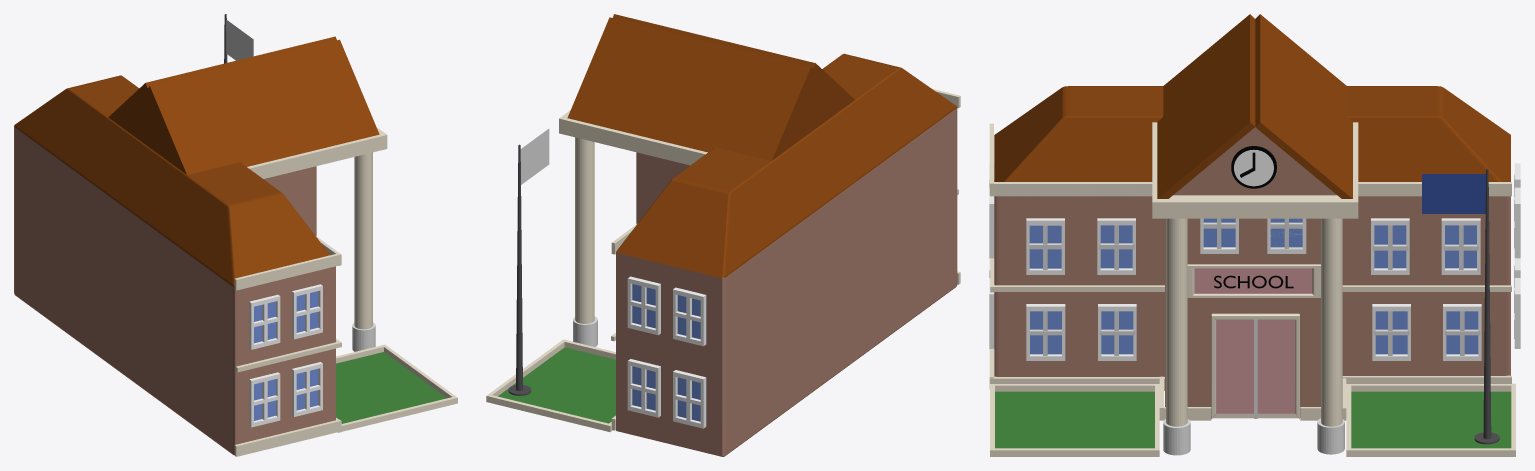
Rendered from school.glb.
The picture shows the model from 3 angles, left to right: view 1: azimuth 30°, elevation 25°; view 2: azimuth 150°, elevation 25°; view 3: azimuth 270°, elevation 25°; orthographic projection. The views are drawn at different scales.
Parts seen in each view (by area): view 1: Cube.003, Cube.002, Cube.070, Cube.029, Circle.004, Cube.062, Cube.004, Cube.017, Cube.063, Plane.035, Cube.012, Circle.001; view 2: Cube.003, Cube.002, Cube.073, Cube.029, Circle.005, Cube.062, Cube.004, Cylinder, Plane.035, Circle; view 3: Cube.003, Cube.002, Cube.070, Cube.073, Cube.004, Plane.012, Cube.062, Circle.005, Circle.004, Plane.023, Cube.007, Plane.034 (+22 smaller).
Boxes of the visible parts, box(x1,y1,x2,y2) form: Cube.003: box(14, 75, 335, 455); Cube.002: box(108, 36, 379, 174); Cube.070: box(336, 344, 457, 431); Cube.029: box(249, 284, 322, 427); Circle.004: box(354, 152, 372, 329); Cube.062: box(247, 127, 387, 178); Cube.004: box(263, 166, 316, 235); Cube.017: box(234, 253, 341, 290); Cube.063: box(234, 419, 341, 456); Plane.035: box(226, 19, 253, 60); Cube.012: box(235, 341, 341, 372); Circle.001: box(352, 322, 375, 351); Cube.003: box(616, 53, 957, 456); Cube.002: box(567, 14, 854, 160); Cube.073: box(486, 339, 615, 431); Cube.029: box(627, 276, 706, 428); Circle.005: box(575, 137, 594, 323); Cube.062: box(559, 110, 707, 165); Cube.004: box(636, 152, 689, 224); Cylinder: box(516, 144, 522, 390); Plane.035: box(520, 128, 549, 184); Circle: box(573, 316, 597, 346); Cube.003: box(994, 86, 1510, 376); Cube.002: box(1157, 14, 1352, 198); Cube.070: box(990, 384, 1159, 456); Cube.073: box(1346, 383, 1515, 456); Cube.004: box(1165, 218, 1320, 417); Plane.012: box(1211, 313, 1299, 418); Cube.062: box(1152, 122, 1358, 218); Circle.005: box(1321, 218, 1342, 426); Circle.004: box(1166, 218, 1187, 426); Plane.023: box(1187, 264, 1320, 297); Cube.007: box(1173, 127, 1336, 195); Plane.034: box(1422, 174, 1485, 213).
Size of the model in its own units: 14.83 by 18.2 by 26.4.
